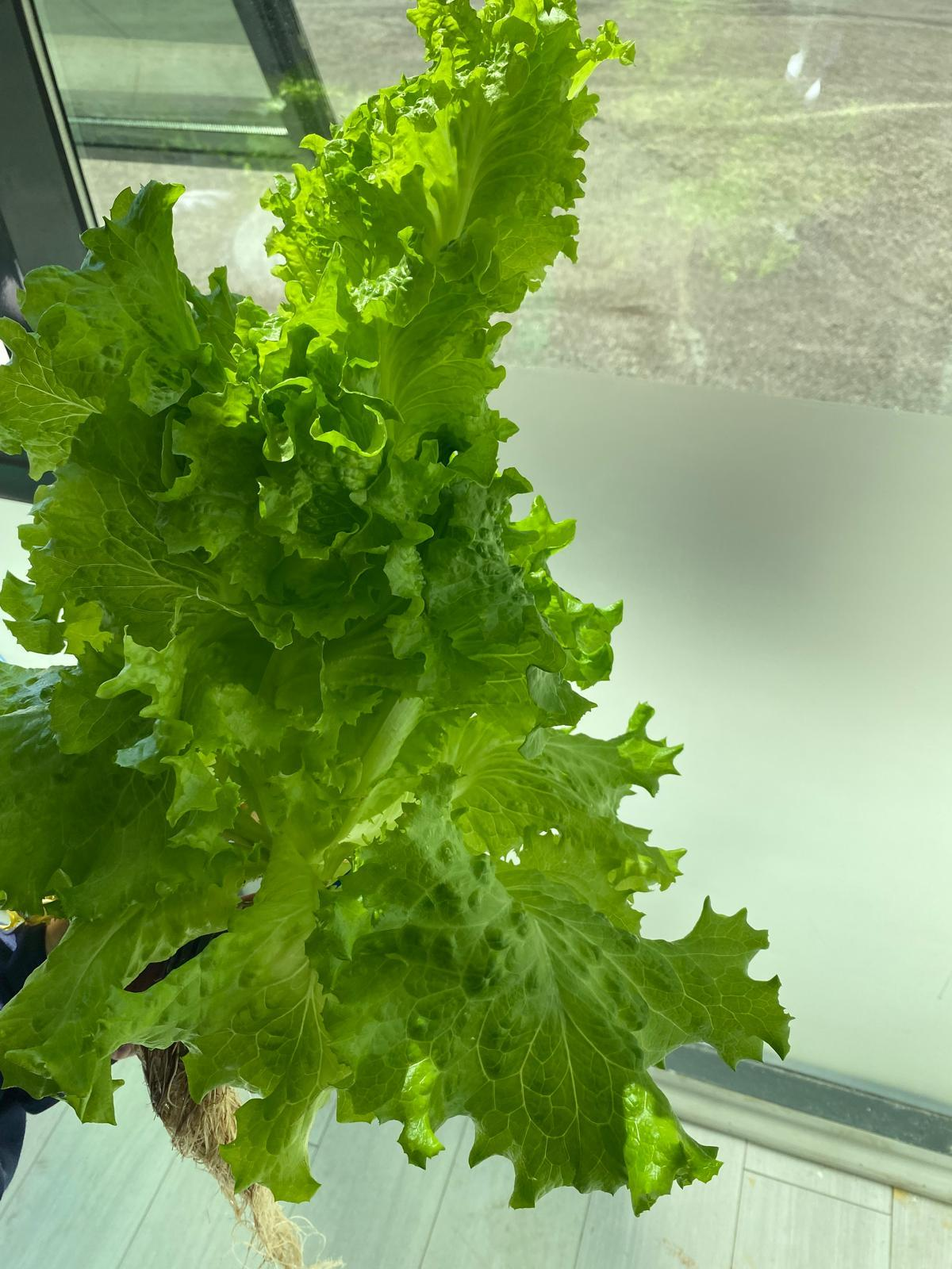Healthy Lettuce: (0, 0, 797, 1220)
